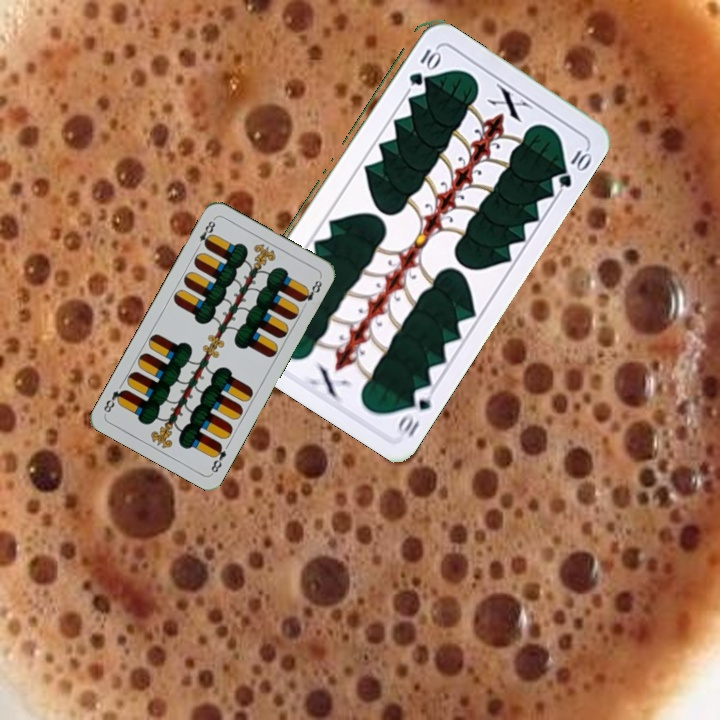E8: (192, 215, 218, 252), (207, 439, 229, 477)
G10: (393, 382, 437, 439), (404, 44, 441, 89)
